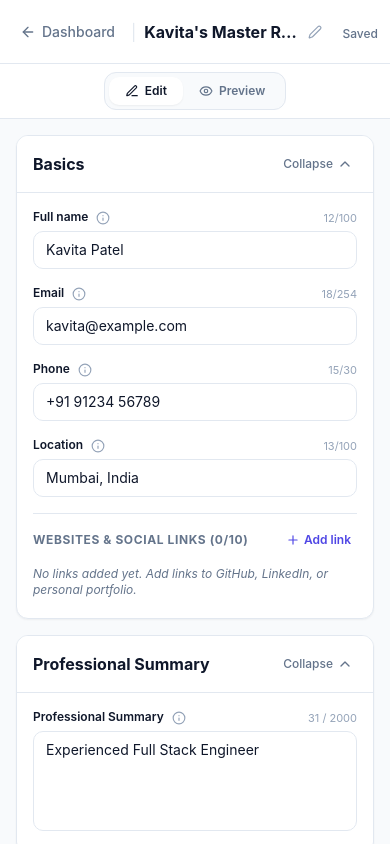
Test: EditorPage › loads resume, displays title, and supports responsive tab switching while keeping both panels mounted
expect the heading "Kavita's Master Resume" is shown: met, box [144,20,298,44]
// Click Preview tab
Click the tab "Preview" at (232, 91), box [183,77,281,105]
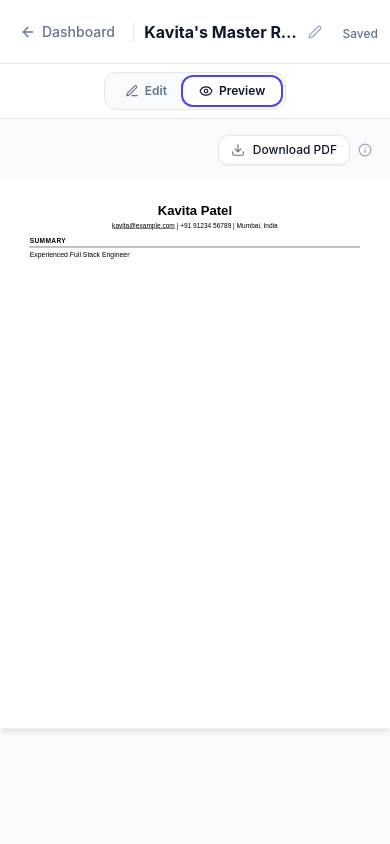
expect the panel named "preview" is shown: met
